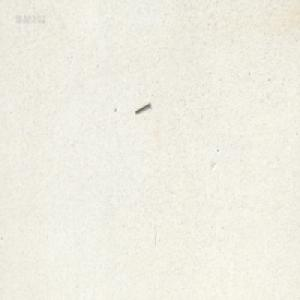Bolt: (134, 100, 150, 113)
